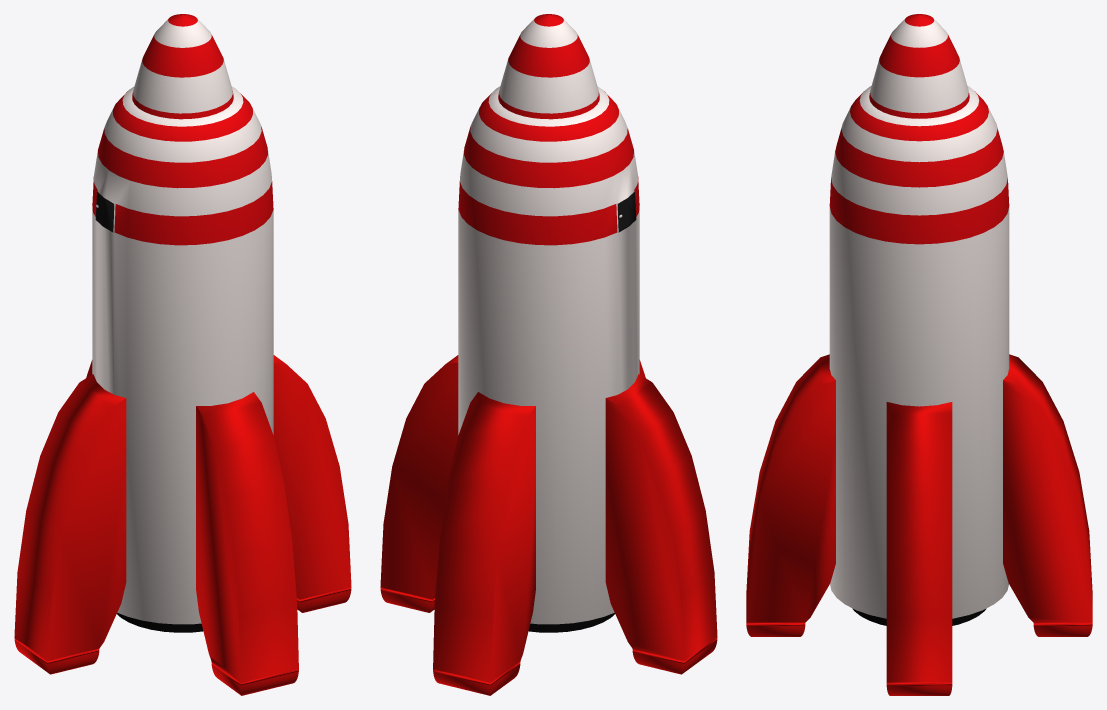
Rendered from rocket.fbx.
The picture shows the model from 3 angles, left to right: view 1: azimuth 30°, elevation 25°; view 2: azimuth 150°, elevation 25°; view 3: azimuth 270°, elevation 25°; orthographic projection.
Visible parts, largest first — view 1: Cube.001_0; view 2: Cube.001_0; view 3: Cube.001_0.
Boxes of the visible parts, x1=… form: Cube.001_0: x1=14, y1=14, x2=351, y2=695; Cube.001_0: x1=380, y1=14, x2=717, y2=695; Cube.001_0: x1=746, y1=14, x2=1092, y2=695.
Bounding box in the file's own units: 993 × 1915 × 986.
